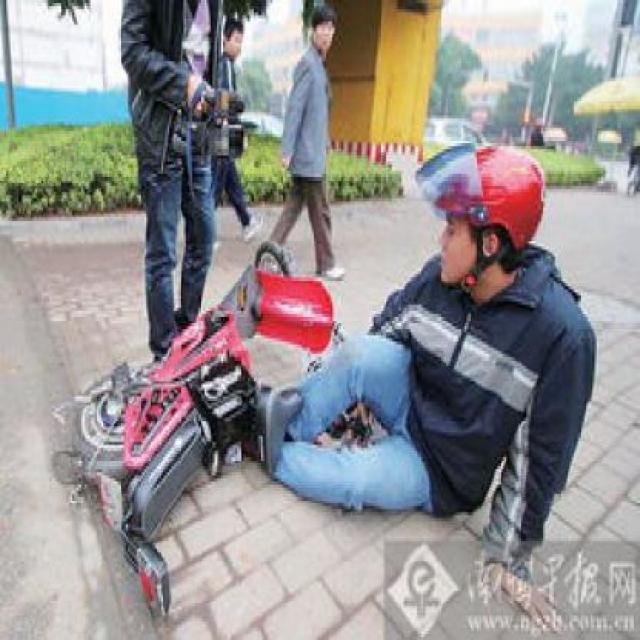fall: (234, 125, 598, 582)
